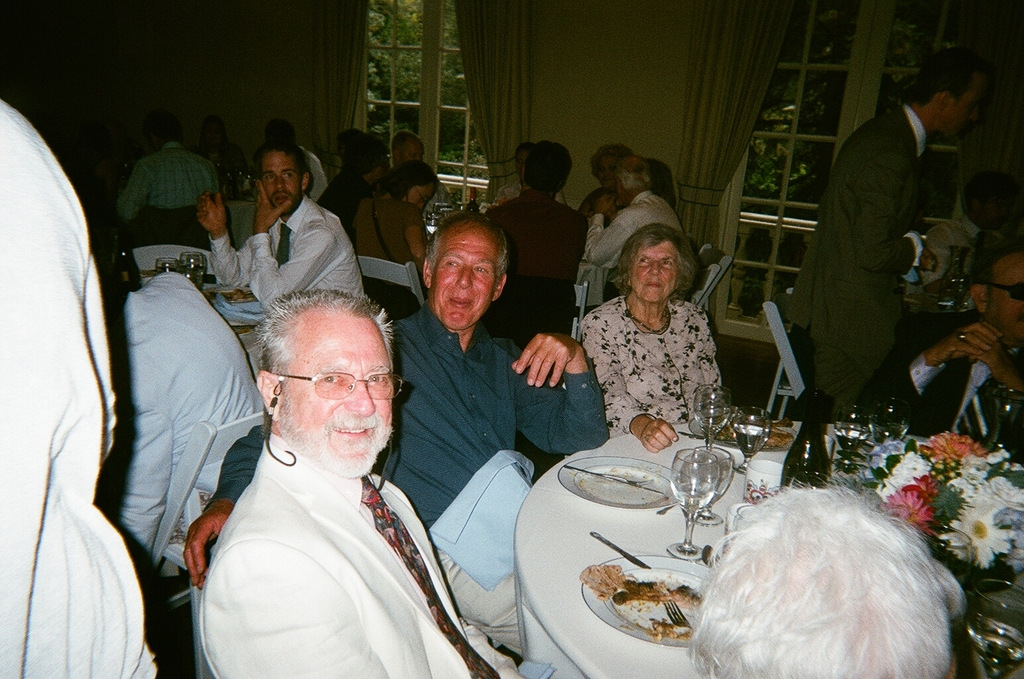Human-face: (272, 306, 387, 492), (426, 225, 504, 329), (982, 251, 1023, 350), (621, 243, 685, 304), (258, 151, 308, 219), (402, 179, 441, 219)
